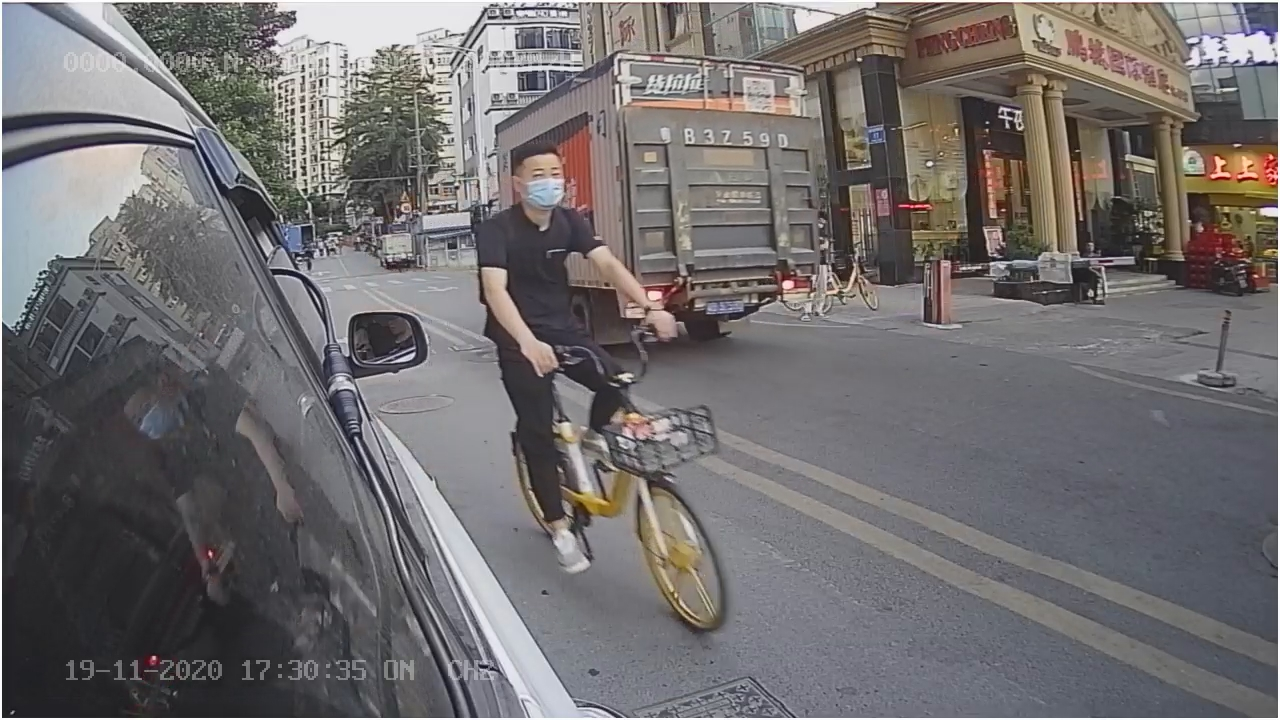person: (463, 152, 610, 342)
